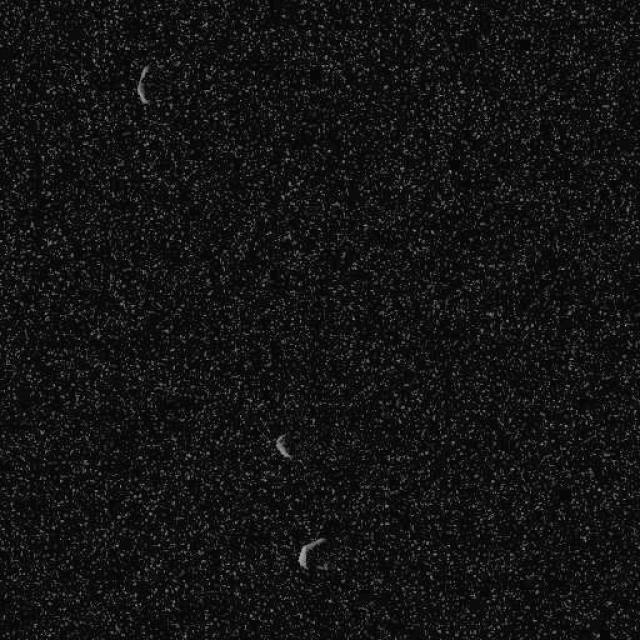D2: (0, 0, 639, 639), (296, 535, 326, 571), (135, 63, 151, 105), (274, 432, 292, 458)
